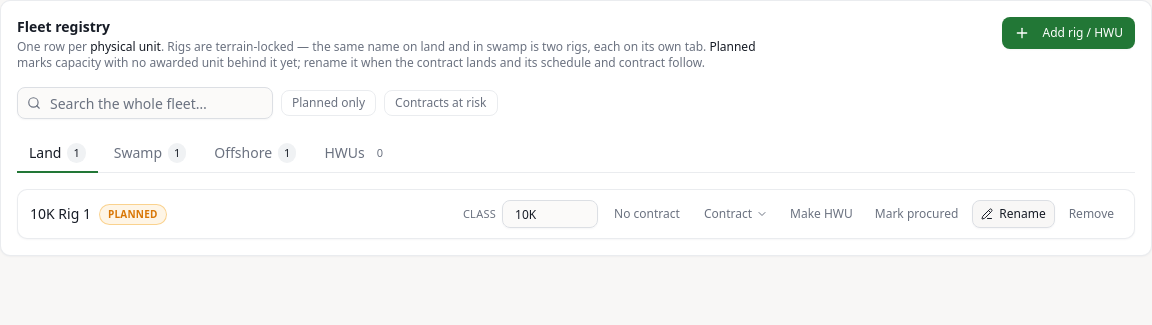
ResourceRegistryPanel › always shows the HWUs tab, with an explanatory empty state
Expected: the text "10K Rig 1" is shown, [30,204,91,224]
Click the button "HWUs 0".
click(357, 154)  # box [312,135,401,173]
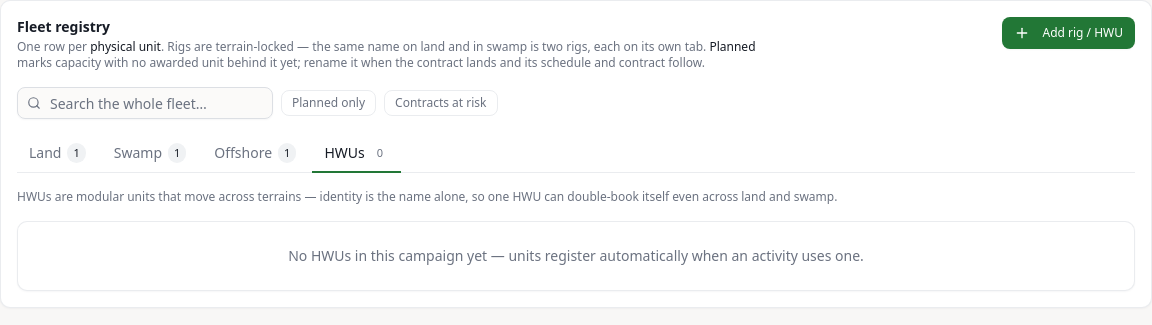
Expected: the text "No HWUs in this campaign yet" is shown, [288,246,864,265]
